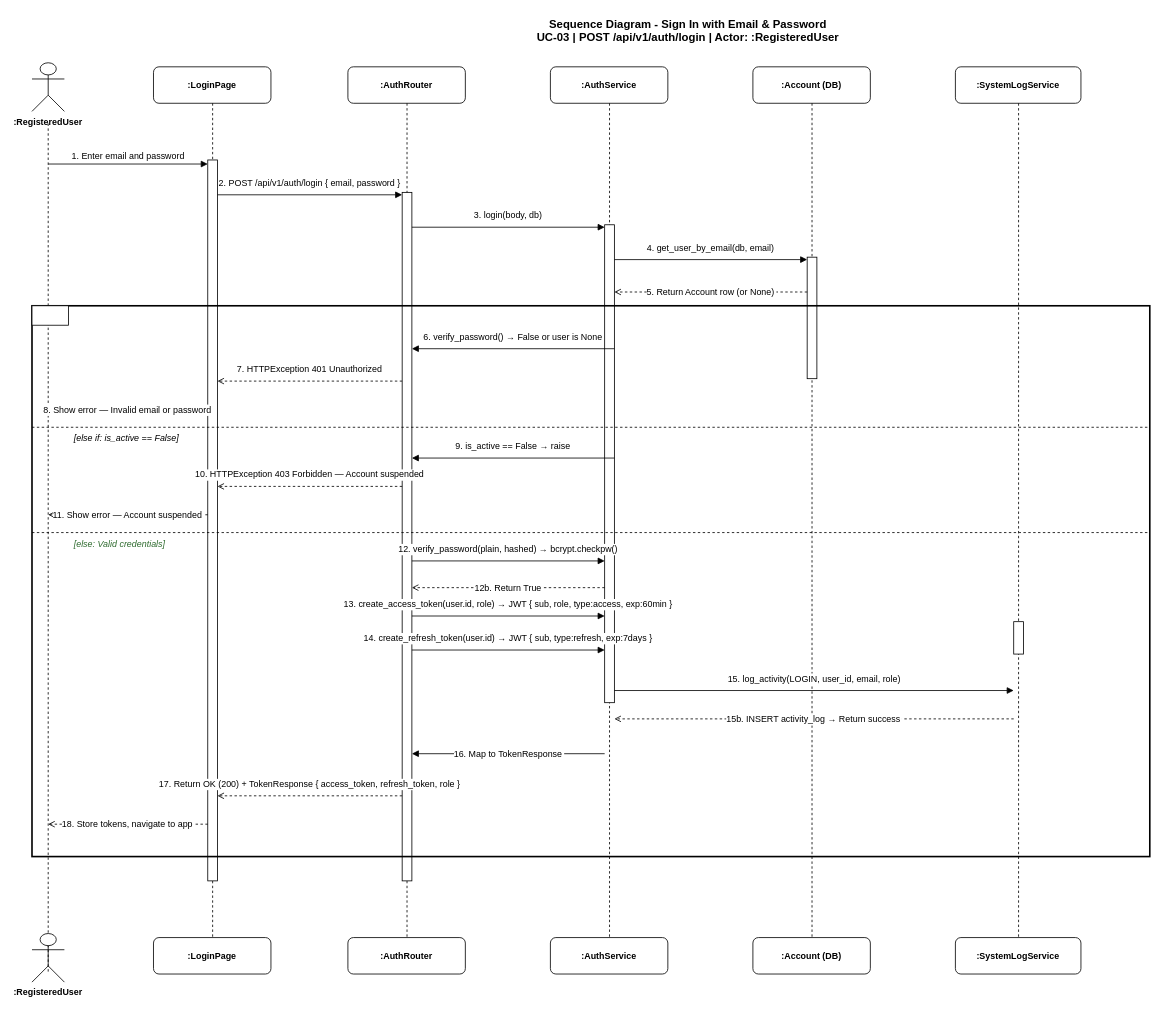
Some shapes in this 1165 by 1012 pixel diagram are drawn without their labels. The shapes that lost their labels are listed below. From the top down, each one's box as (x1, y1, x2, y2) in pixels, then its label:
(31, 305, 68, 325): alt
(207, 159, 217, 881): [Account not found | wrong password]
